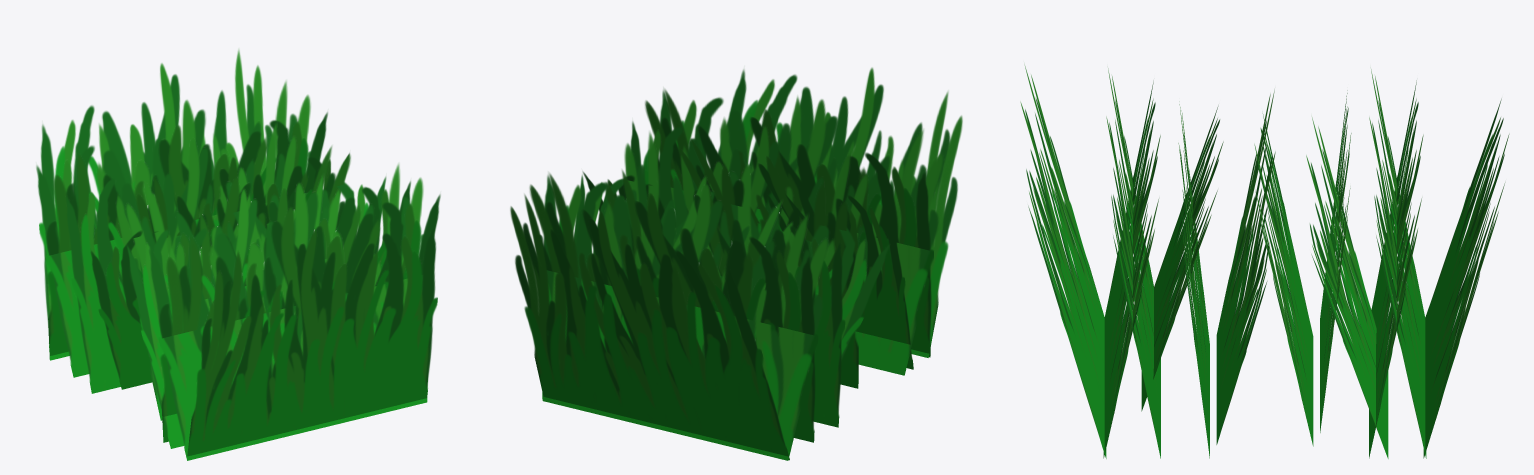
File: bush.glb
3 renders of one model, left to right at view 1: azimuth 30°, elevation 25°; view 2: azimuth 150°, elevation 25°; view 3: azimuth 270°, elevation 25°, orthographic. The views are drawn at different scales.
Visible parts, largest first — view 1: bush.008, bush, bush.011, bush.004, bush.002, bush.006, bush.005, bush.009, bush.001, bush.003, bush.010, bush.007; view 2: bush.002, bush.006, bush.005, bush.008, bush.011, bush, bush.001, bush.004, bush.009, bush.010, bush.003, bush.007; view 3: bush.008, bush.002, bush.007, bush.003, bush.006, bush, bush.009, bush.011, bush.005, bush.001, bush.010, bush.004.
Boxes of the visible parts, left/top/right/bottom form: bush.008: left=187, top=227, right=437, bottom=456; bush: left=149, top=164, right=427, bottom=460; bush.011: left=159, top=194, right=440, bottom=442; bush.004: left=66, top=123, right=296, bottom=393; bush.002: left=39, top=49, right=272, bottom=360; bush.006: left=46, top=112, right=327, bottom=359; bush.005: left=36, top=81, right=311, bottom=377; bush.009: left=90, top=146, right=350, bottom=389; bush.001: left=127, top=175, right=340, bottom=448; bush.003: left=126, top=167, right=386, bottom=420; bush.010: left=180, top=181, right=410, bottom=299; bush.007: left=136, top=153, right=349, bottom=239; bush.002: left=510, top=194, right=789, bottom=460; bush.006: left=542, top=175, right=827, bottom=460; bush.005: left=529, top=173, right=818, bottom=442; bush.008: left=710, top=67, right=962, bottom=357; bush.011: left=659, top=90, right=943, bottom=375; bush: left=645, top=89, right=933, bottom=357; bush.001: left=680, top=138, right=913, bottom=369; bush.004: left=605, top=170, right=845, bottom=427; bush.009: left=624, top=132, right=889, bottom=360; bush.010: left=630, top=121, right=867, bottom=257; bush.003: left=583, top=167, right=858, bottom=388; bush.007: left=574, top=175, right=792, bottom=338; bush.008: left=1020, top=64, right=1106, bottom=458; bush.002: left=1423, top=99, right=1509, bottom=458; bush.007: left=1306, top=117, right=1388, bottom=458; bush.003: left=1216, top=90, right=1275, bottom=444; bush.006: left=1369, top=69, right=1426, bottom=458; bush: left=1103, top=81, right=1160, bottom=458; bush.009: left=1254, top=113, right=1313, bottom=446; bush.011: left=1106, top=68, right=1160, bottom=458; bush.005: left=1369, top=80, right=1423, bottom=458; bush.001: left=1141, top=106, right=1223, bottom=411; bush.010: left=1178, top=104, right=1209, bottom=458; bush.004: left=1320, top=90, right=1351, bottom=432.
Size of the model in its own units: 1.44 by 1.02 by 1.58.
1 material, 1 textured.
